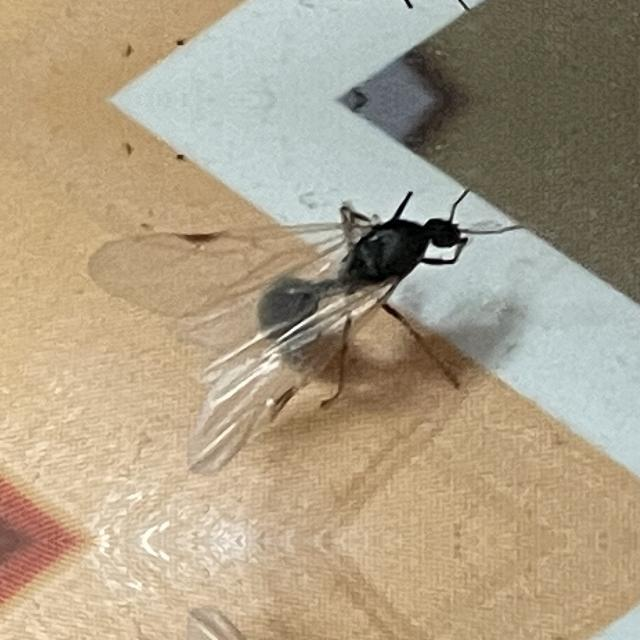Tetramorium: (206, 161, 518, 415)
